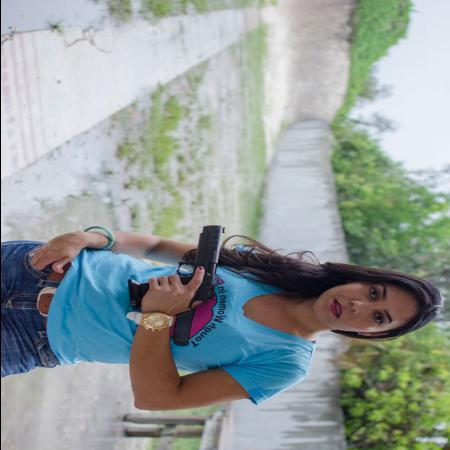Pistol: (120, 222, 232, 310)
